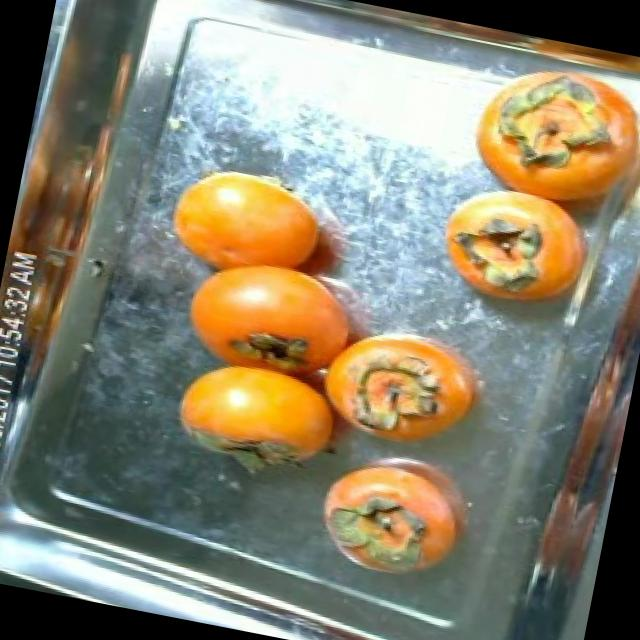Fruit: (156, 325, 360, 486), (298, 432, 494, 596), (149, 144, 347, 300), (422, 170, 562, 312)
